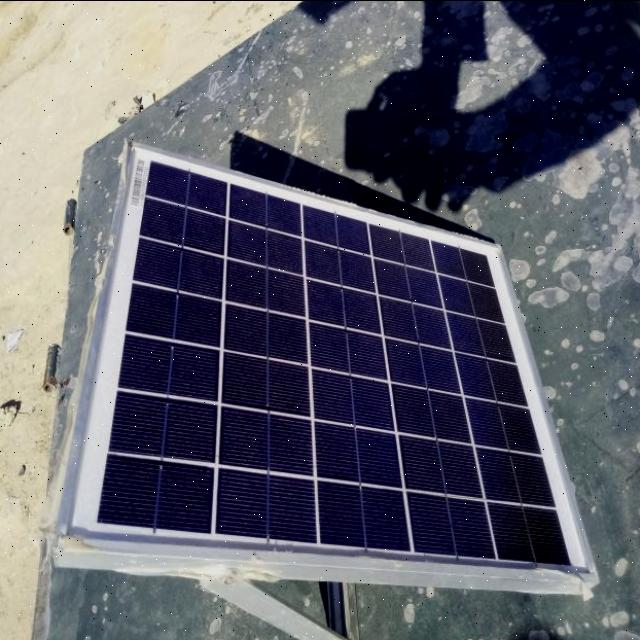Normal Solar Panel: (58, 140, 598, 578)
